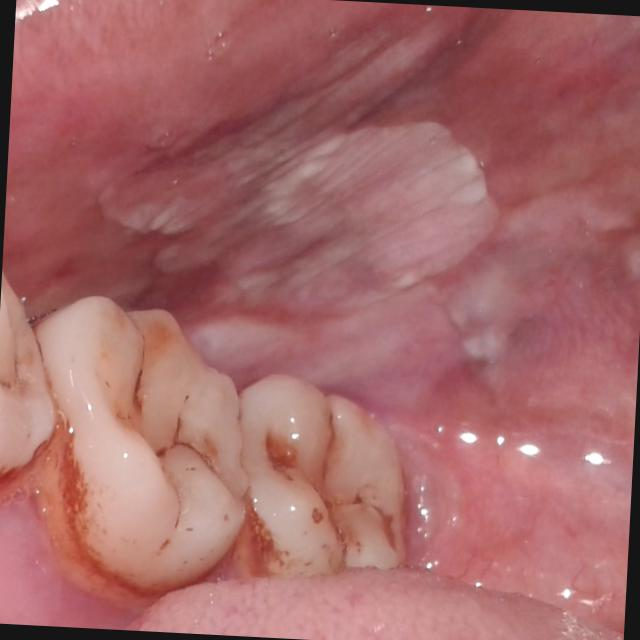Cancer: (70, 29, 532, 402), (509, 39, 640, 455)
